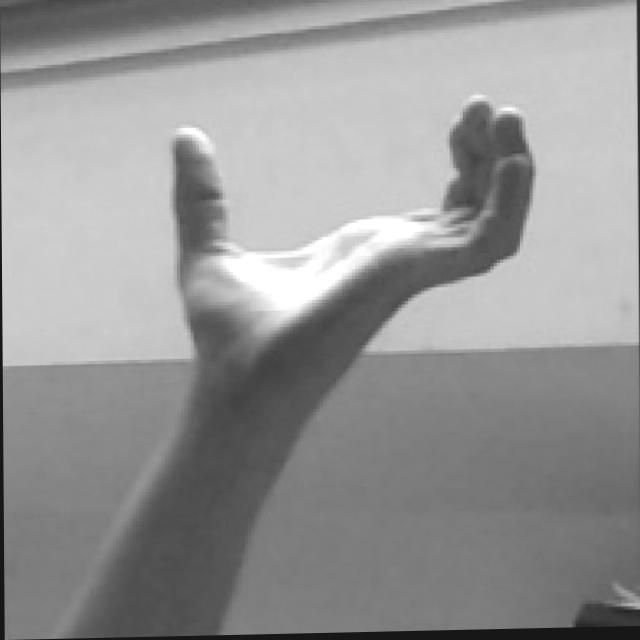space: (168, 95, 538, 361)
